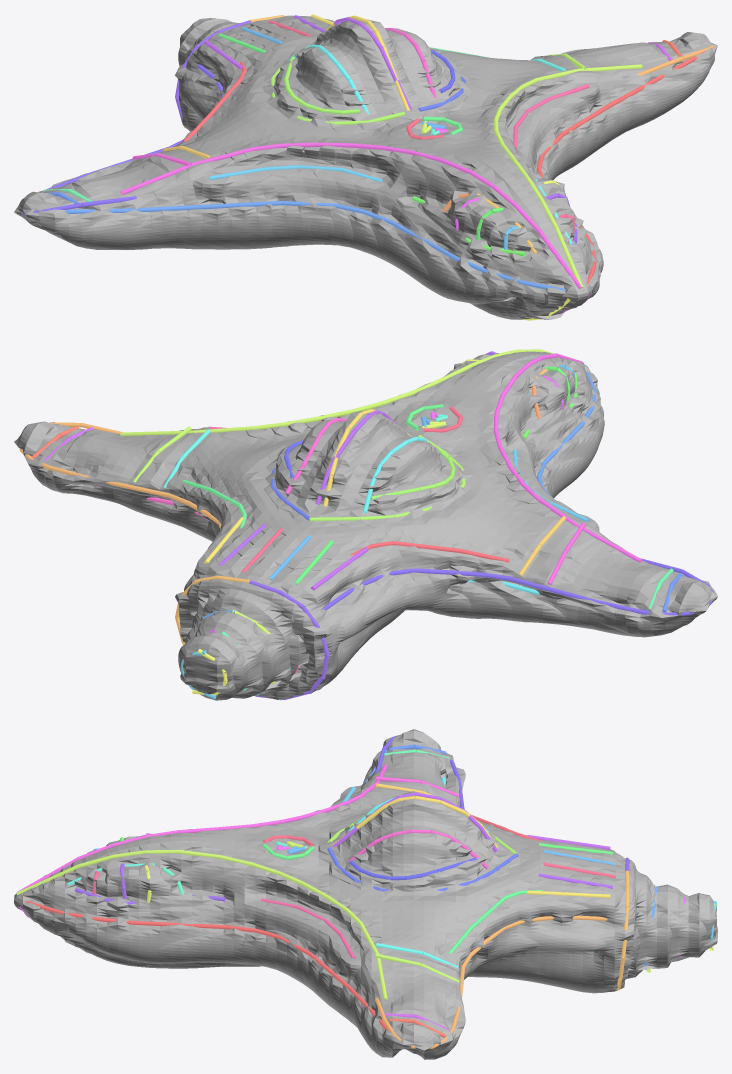
Rendered from author1_ship.gltf.
3 renders of one model, top to bottom at view 1: azimuth 30°, elevation 25°; view 2: azimuth 150°, elevation 25°; view 3: azimuth 270°, elevation 25°, orthographic. The views are drawn at different scales.
Size of the model in its own units: 0.7151 by 0.2011 by 0.684.
